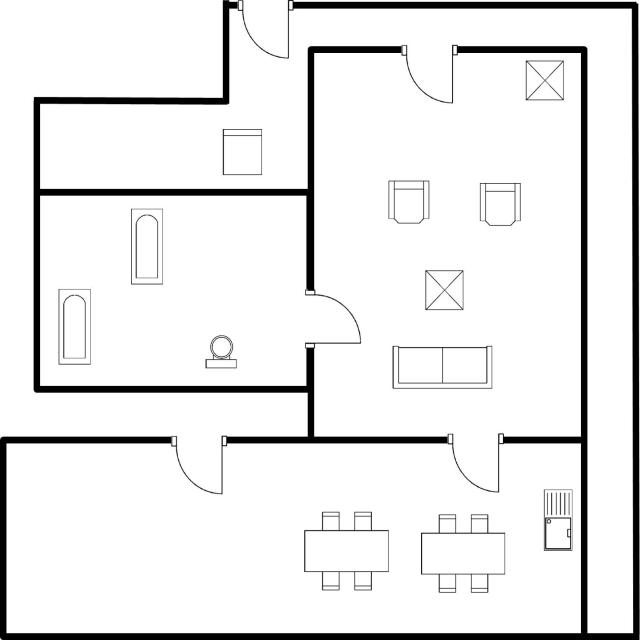armchair: (472, 178, 526, 233), (381, 175, 434, 229)
coffee_table: (421, 265, 468, 316), (521, 56, 568, 106)
dining_table: (414, 509, 512, 598), (299, 507, 394, 595)
large_sink: (200, 330, 240, 372)
large_sofa: (387, 341, 497, 395)
sink: (537, 485, 578, 558)
small_sofa: (218, 124, 267, 182)
tub: (52, 283, 97, 370), (125, 204, 167, 292)
